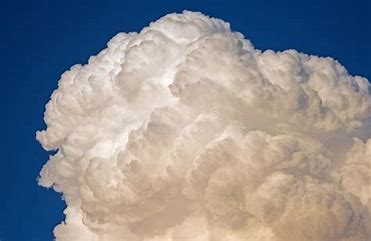Cumulus: (23, 5, 371, 241)
